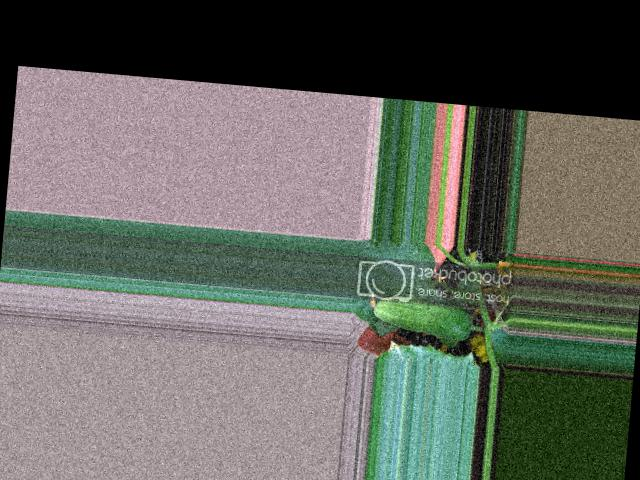cucumber: (370, 293, 471, 341)
